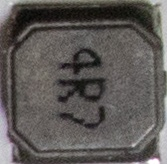Induktor: (3, 4, 161, 159)
